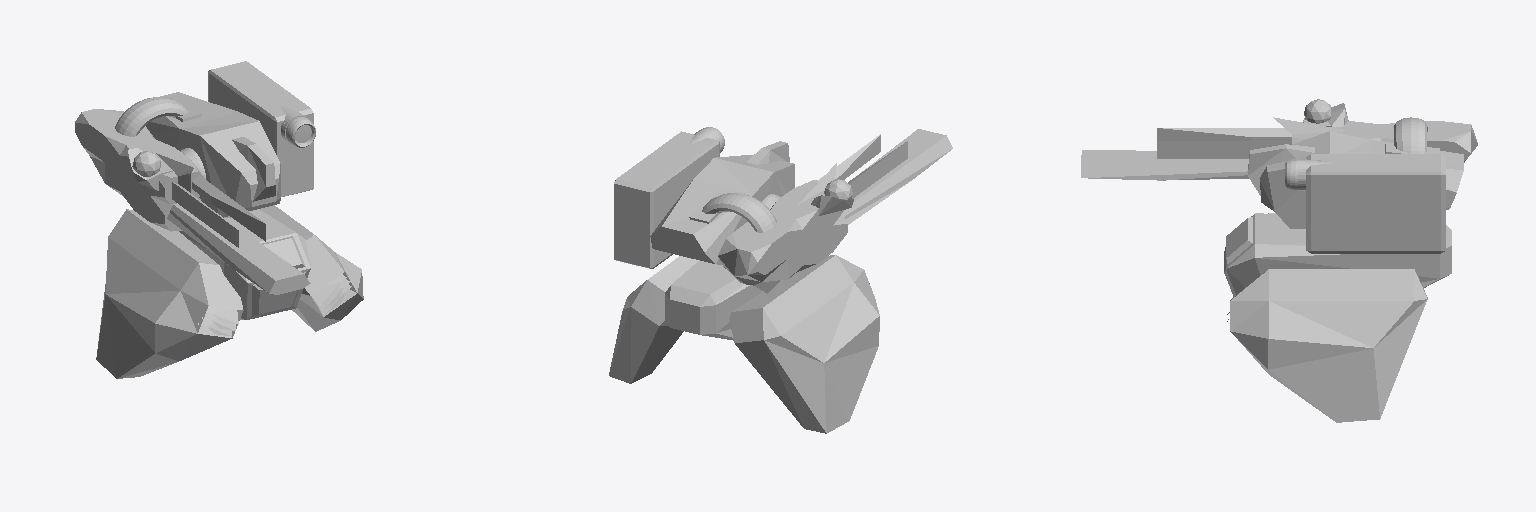
Rendered from Player.obj.
3 views of the same model, side by side, from view 1: azimuth 30°, elevation 25°; view 2: azimuth 150°, elevation 25°; view 3: azimuth 270°, elevation 25° (orthographic).
Parts seen in each view (by area): view 1: 脚_本体.002_立方体.003, 本体_立方体.003, 立方体.001_銃身, 立方体.002, 左側__装備_立方体.005, 腰_本体_立方体, 脚_本体_立方体.002, 弾帯_トーラス.006, 円柱, ICO球.001; view 2: 脚_本体.002_立方体.003, 本体_立方体.003, 立方体.002, 左側__装備_立方体.005, 脚_本体_立方体.002, 立方体.001_銃身, 腰_本体_立方体, 弾帯_トーラス.006, 立方体.002_立方体.001; view 3: 脚_本体_立方体.002, 左側__装備_立方体.005, 立方体.001_銃身, 腰_本体_立方体, 本体_立方体.003, 立方体.002, 弾帯_トーラス.006, 円柱, ICO球.001.
Part boxes in pixels (left/top/right/bottom): 脚_本体.002_立方体.003: left=96, top=209, right=243, bottom=378; 本体_立方体.003: left=146, top=92, right=280, bottom=217; 立方体.001_銃身: left=167, top=175, right=310, bottom=294; 立方体.002: left=75, top=109, right=204, bottom=231; 左側__装備_立方体.005: left=208, top=61, right=313, bottom=196; 腰_本体_立方体: left=179, top=209, right=310, bottom=319; 脚_本体_立方体.002: left=260, top=205, right=363, bottom=331; 弾帯_トーラス.006: left=115, top=97, right=188, bottom=136; 円柱: left=281, top=105, right=315, bottom=147; ICO球.001: left=132, top=151, right=160, bottom=176; 脚_本体.002_立方体.003: left=729, top=255, right=879, bottom=433; 本体_立方体.003: left=650, top=141, right=794, bottom=264; 立方体.002: left=718, top=163, right=847, bottom=293; 左側__装備_立方体.005: left=614, top=131, right=719, bottom=268; 脚_本体_立方体.002: left=609, top=256, right=698, bottom=383; 立方体.001_銃身: left=817, top=129, right=952, bottom=224; 腰_本体_立方体: left=665, top=260, right=762, bottom=340; 弾帯_トーラス.006: left=702, top=193, right=776, bottom=232; 立方体.002_立方体.001: left=811, top=190, right=853, bottom=215; 脚_本体_立方体.002: left=1230, top=269, right=1427, bottom=422; 左側__装備_立方体.005: left=1306, top=154, right=1445, bottom=253; 立方体.001_銃身: left=1081, top=128, right=1291, bottom=180; 腰_本体_立方体: left=1224, top=213, right=1451, bottom=296; 本体_立方体.003: left=1248, top=131, right=1463, bottom=228; 立方体.002: left=1273, top=117, right=1477, bottom=162; 弾帯_トーラス.006: left=1394, top=117, right=1427, bottom=153; 円柱: left=1285, top=159, right=1332, bottom=190; ICO球.001: left=1304, top=99, right=1332, bottom=123.
Size of the model in its own units: 11.06 by 11.55 by 17.23.